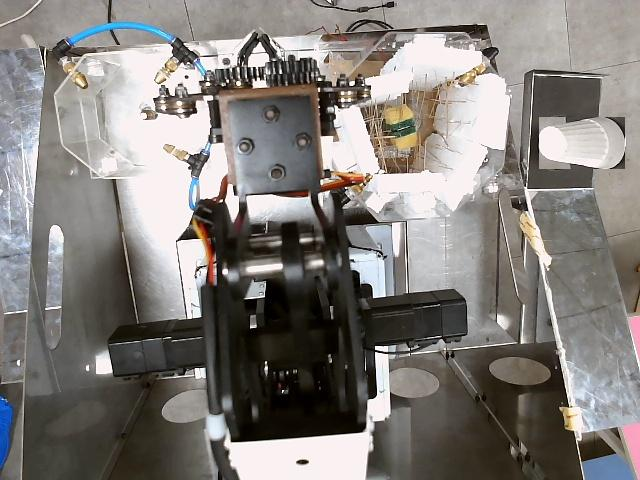cup: (539, 117, 625, 169)
